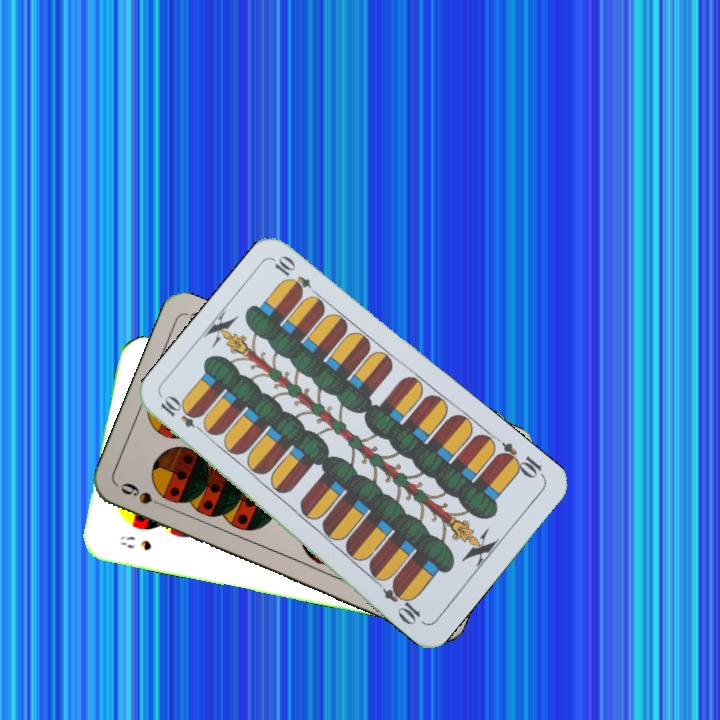E10: (493, 438, 547, 482), (156, 393, 209, 437)
S8: (116, 531, 154, 553)
S9: (116, 478, 172, 512)
